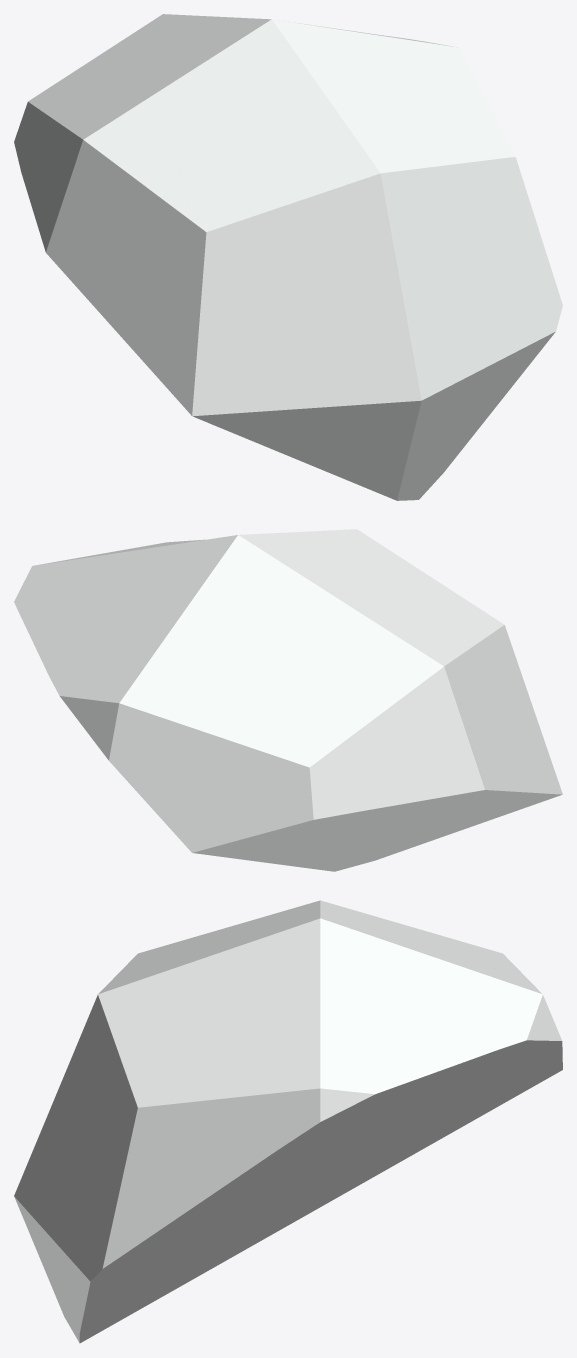
Rendered from Fragment009.fbx.
The picture shows the model from 3 angles, top to bottom: view 1: azimuth 30°, elevation 25°; view 2: azimuth 150°, elevation 25°; view 3: azimuth 270°, elevation 25°; orthographic projection. The views are drawn at different scales.
Parts seen in each view (by area): view 1: SatelliteFrag.009; view 2: SatelliteFrag.009; view 3: SatelliteFrag.009.
Part boxes in pixels (x1,y1,x2,y2): SatelliteFrag.009: (14, 14, 562, 500); SatelliteFrag.009: (14, 529, 562, 871); SatelliteFrag.009: (14, 900, 562, 1343).
Bounding box in the file's own units: 137 × 124 × 150.
